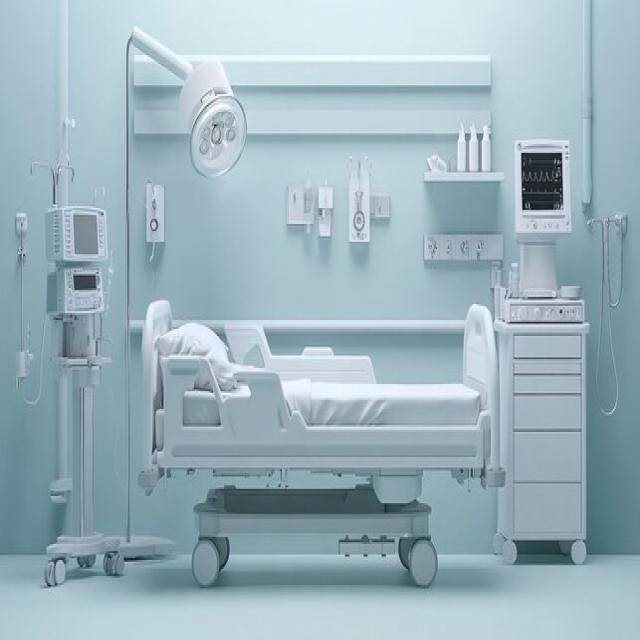Monitor: (41, 194, 118, 331), (511, 131, 580, 252)
bed: (137, 298, 510, 586)
